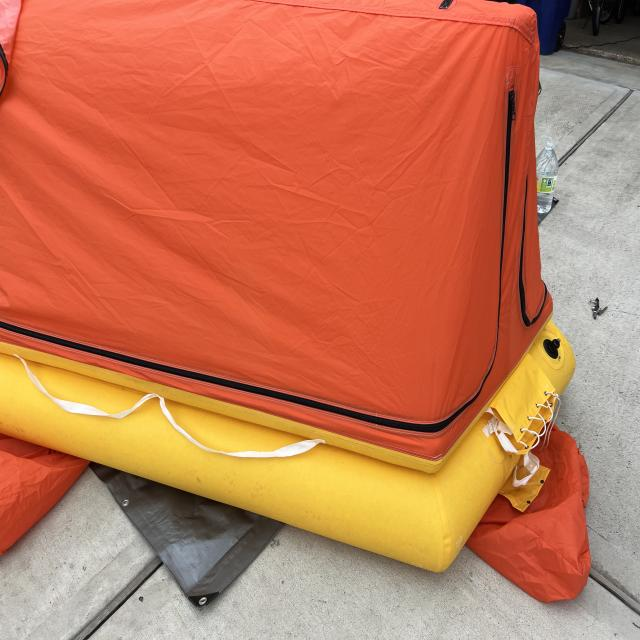Multi-person_life_raft: (0, 0, 590, 603)
